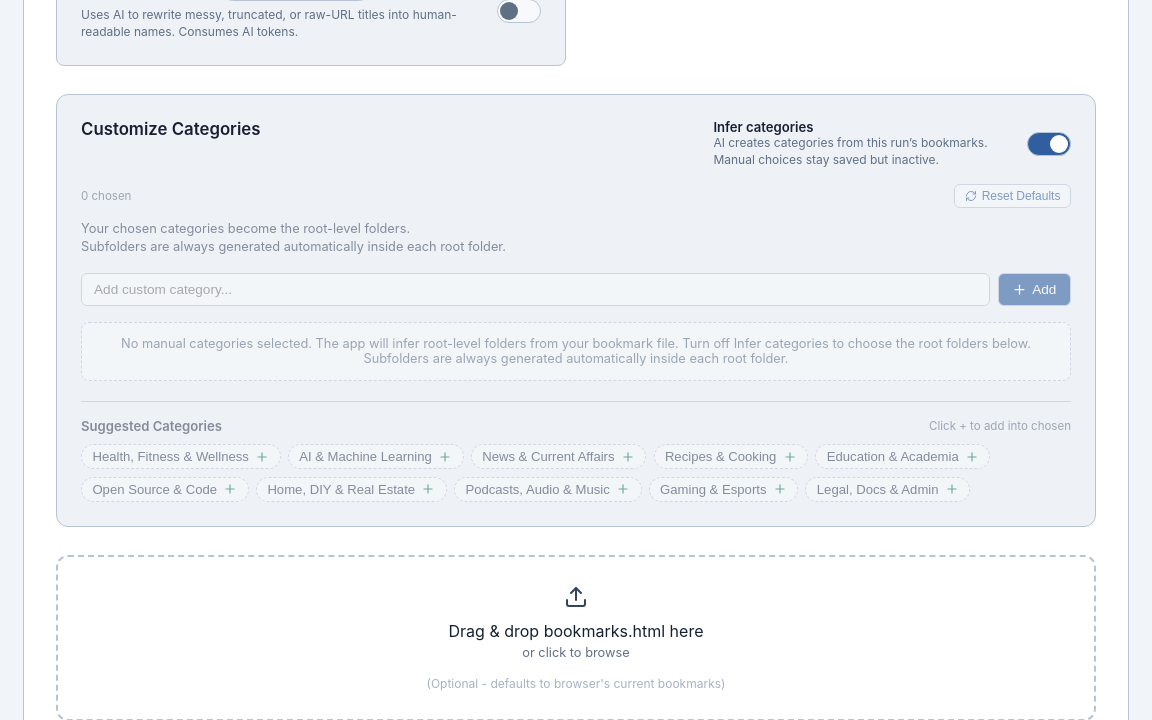
it: Organizer Component UI Tests › requires a manual category before manual AI organization starts
(page scrolled)
Click the switch named "Infer categories" at coordinates (1049, 144), box left=1027, top=132, right=1071, bottom=156
(page scrolled)
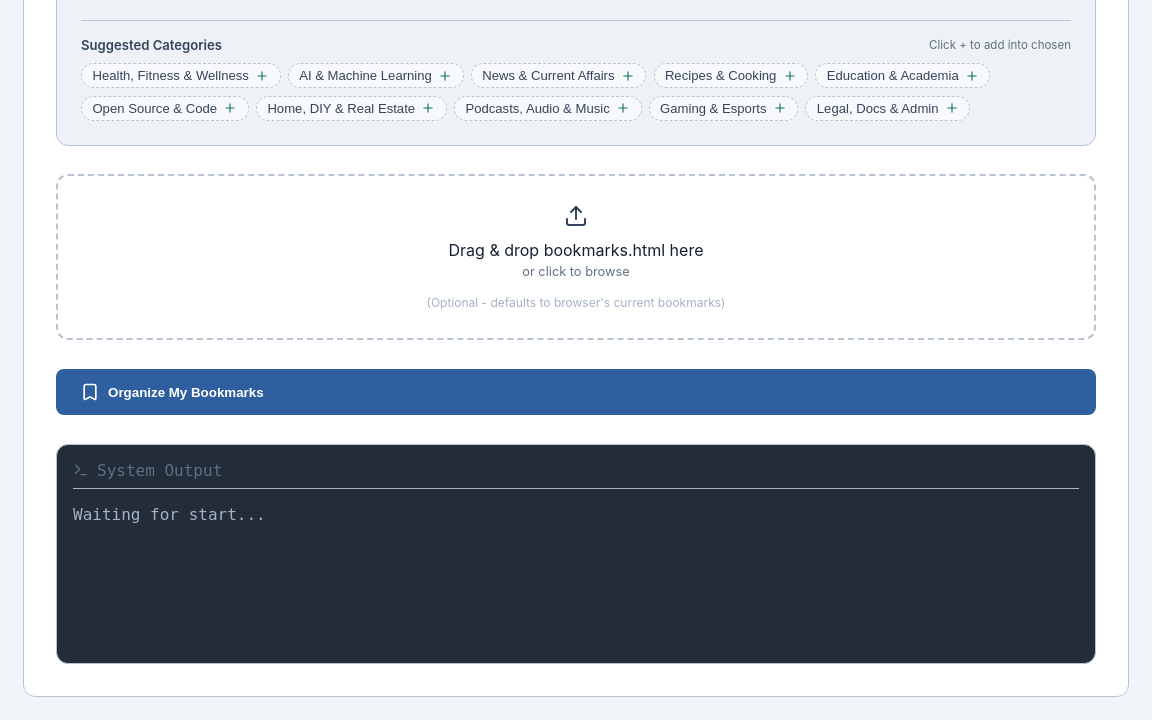
Click the button "Organize My Bookmarks" at coordinates (186, 392), box left=56, top=369, right=1096, bottom=415
(page scrolled)
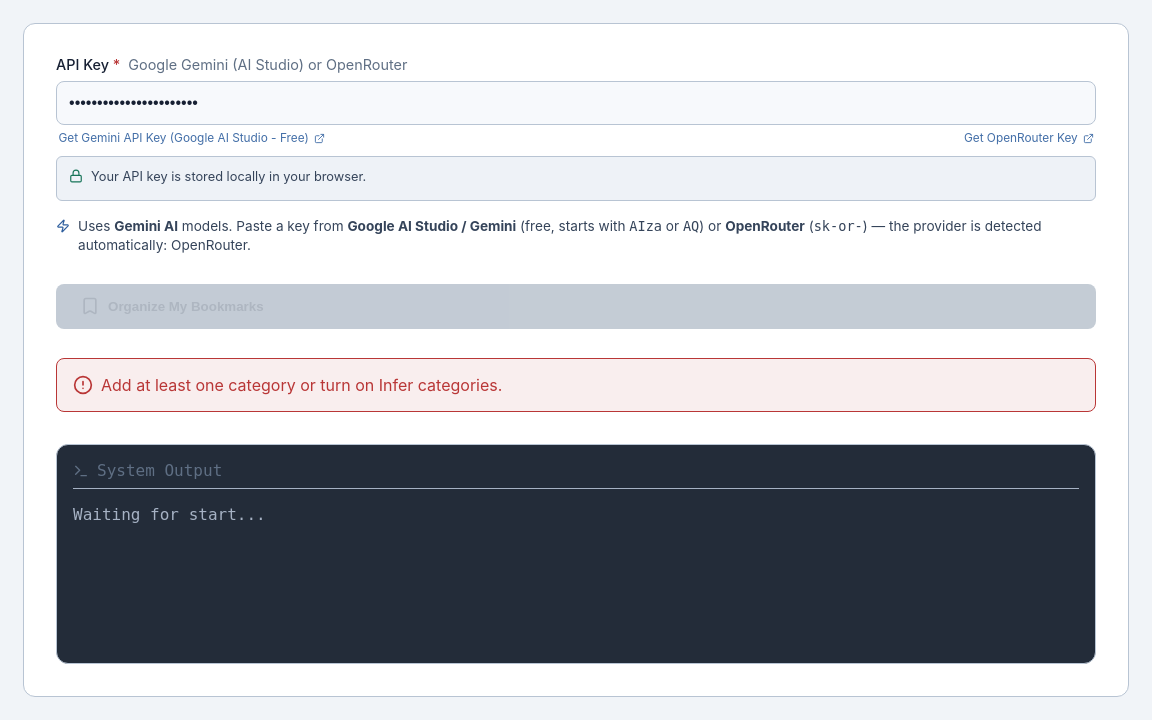
Now the text "Add at least one category or turn on Infer categories." is shown, box left=56, top=358, right=1096, bottom=412
